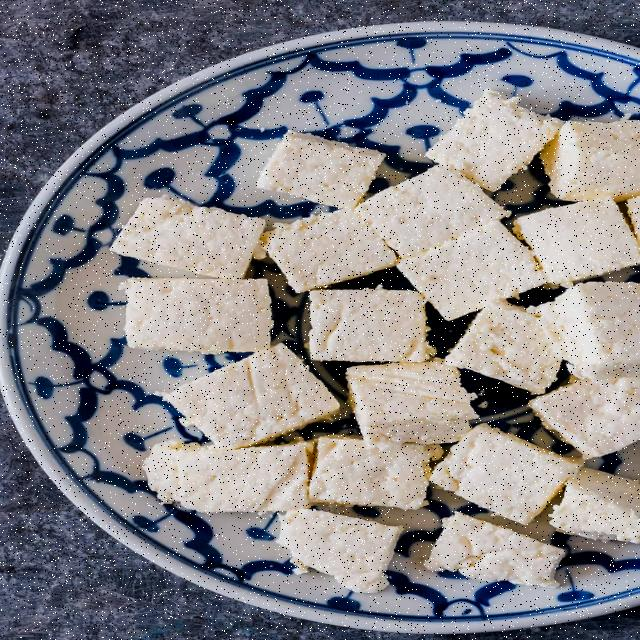Paneer: (175, 51, 640, 608)
